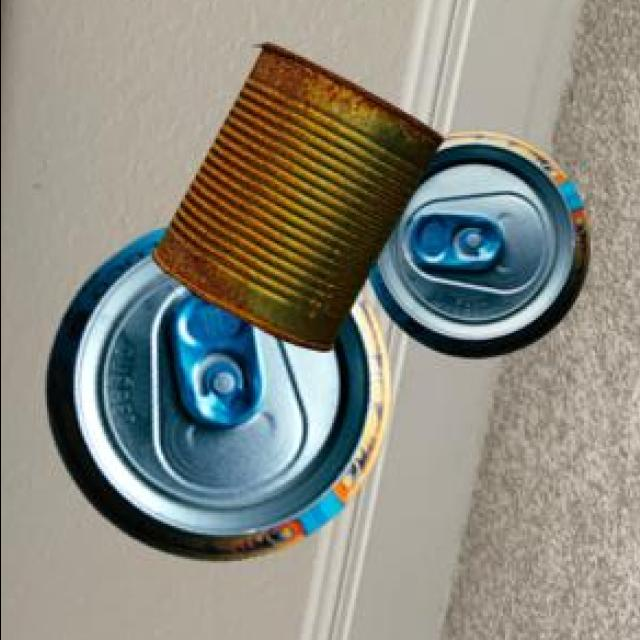logam: (43, 231, 387, 564), (148, 47, 439, 354), (365, 133, 586, 361)
